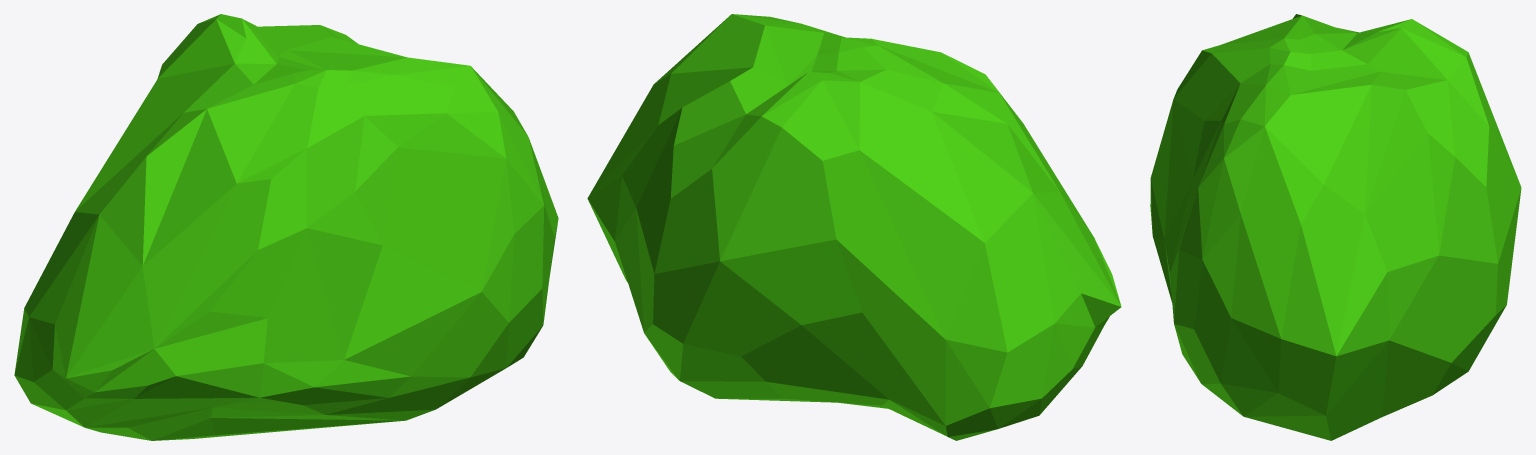
The model's file is lp_tree5_Cube_020.obj.
The picture shows the model from 3 angles, left to right: view 1: azimuth 30°, elevation 25°; view 2: azimuth 150°, elevation 25°; view 3: azimuth 270°, elevation 25°; orthographic projection. The views are drawn at different scales.
Parts seen in each view (by area): view 1: lp_tree5_Cube_020; view 2: lp_tree5_Cube_020; view 3: lp_tree5_Cube_020.
Boxes of the visible parts, x1,y1,x2,y2 form: lp_tree5_Cube_020: [14, 14, 558, 440]; lp_tree5_Cube_020: [587, 14, 1121, 440]; lp_tree5_Cube_020: [1150, 14, 1521, 440].
Size of the model in its own units: 5.94 by 4.1 by 3.97.
